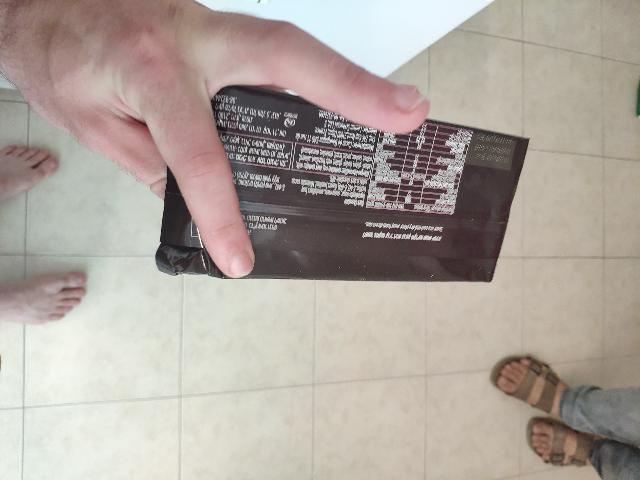chocolate: (236, 91, 448, 480)
